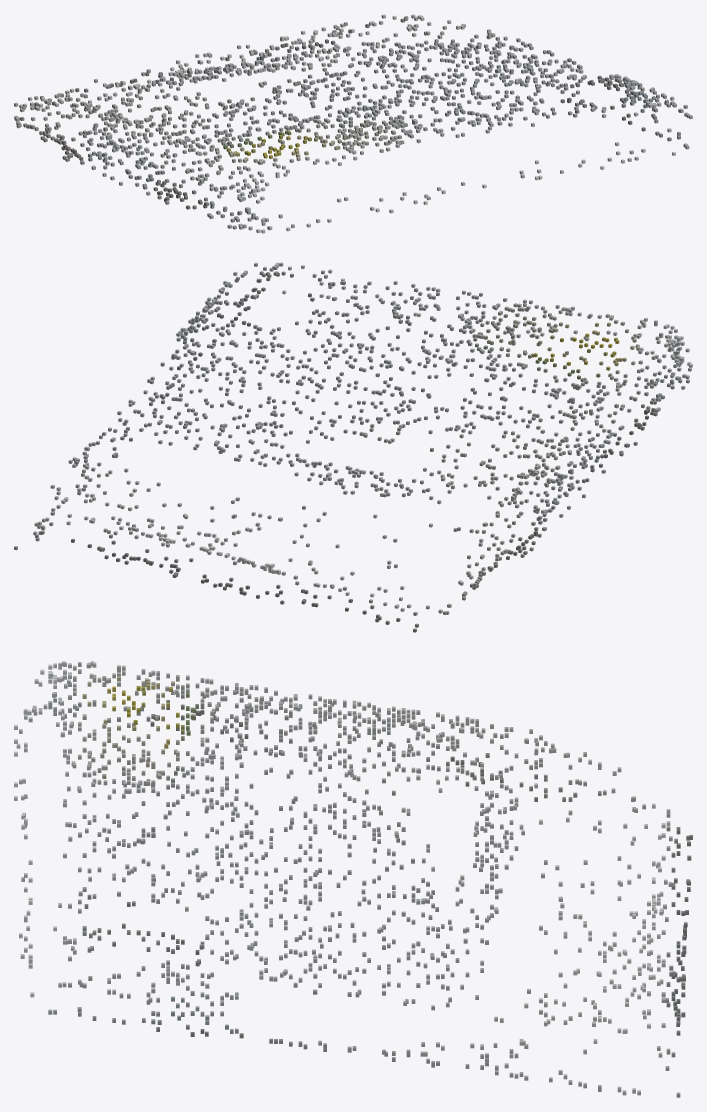
The model's file is door.glb.
The picture shows the model from 3 angles, top to bottom: view 1: azimuth 30°, elevation 25°; view 2: azimuth 150°, elevation 25°; view 3: azimuth 270°, elevation 25°; orthographic projection. The views are drawn at different scales.
Parts seen in each view (by area): view 1: world; view 2: world; view 3: world.
Boxes of the visible parts, box(x1,y1,x2,y2) form: world: box(14, 14, 692, 233); world: box(14, 262, 692, 632); world: box(14, 661, 692, 1097).
Bounding box in the file's own units: 0.5319 × 0.1619 × 0.5405.
